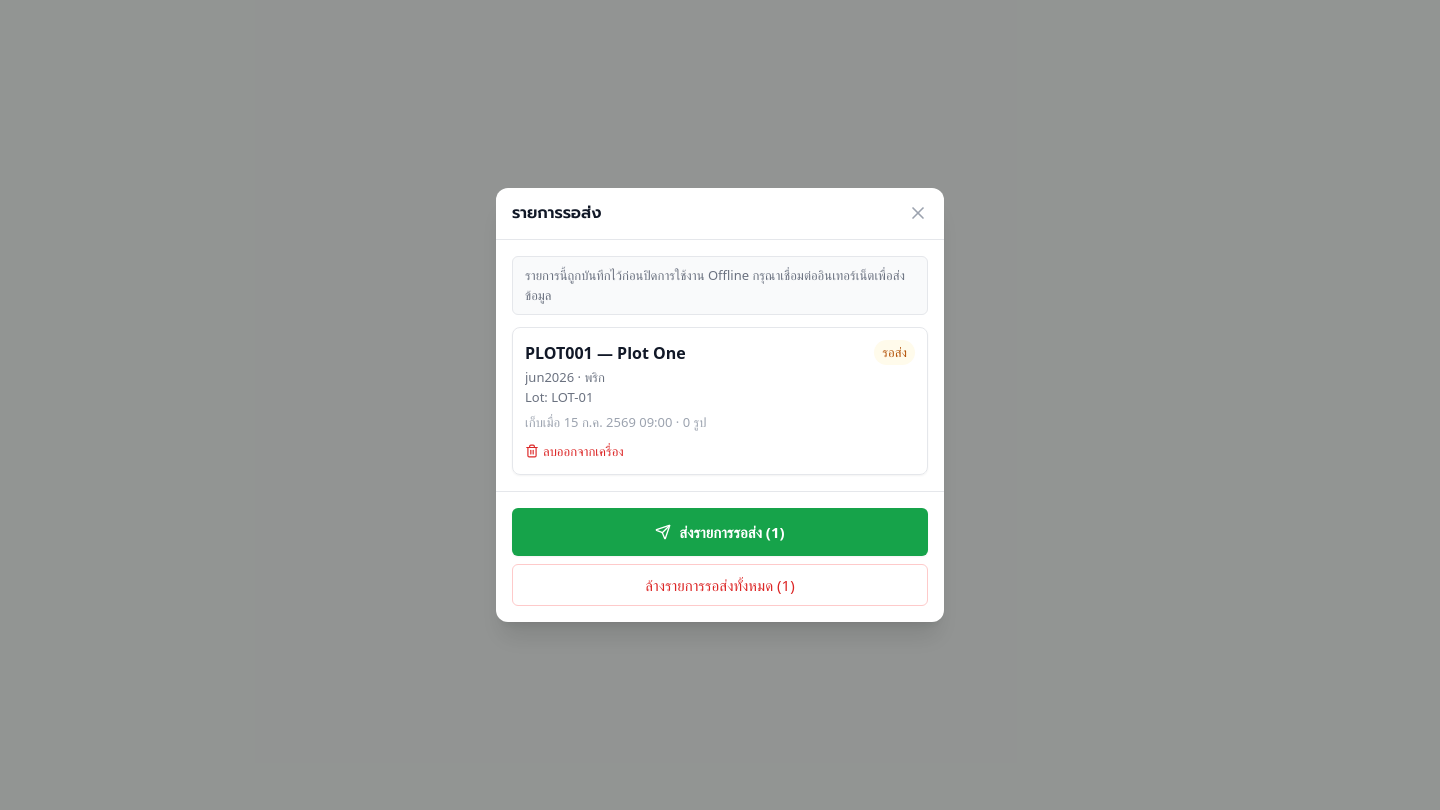
Scenario: OfflineInspectionQueuePanel — re-auth + sync flow › never shows "เบอร์โทร" in the re-auth number step copy
This screenshot has width=1440, height=810.
Click the button "ส่งรายการรอส่ง (1)": click(720, 532) x1=512 y1=508 x2=928 y2=556
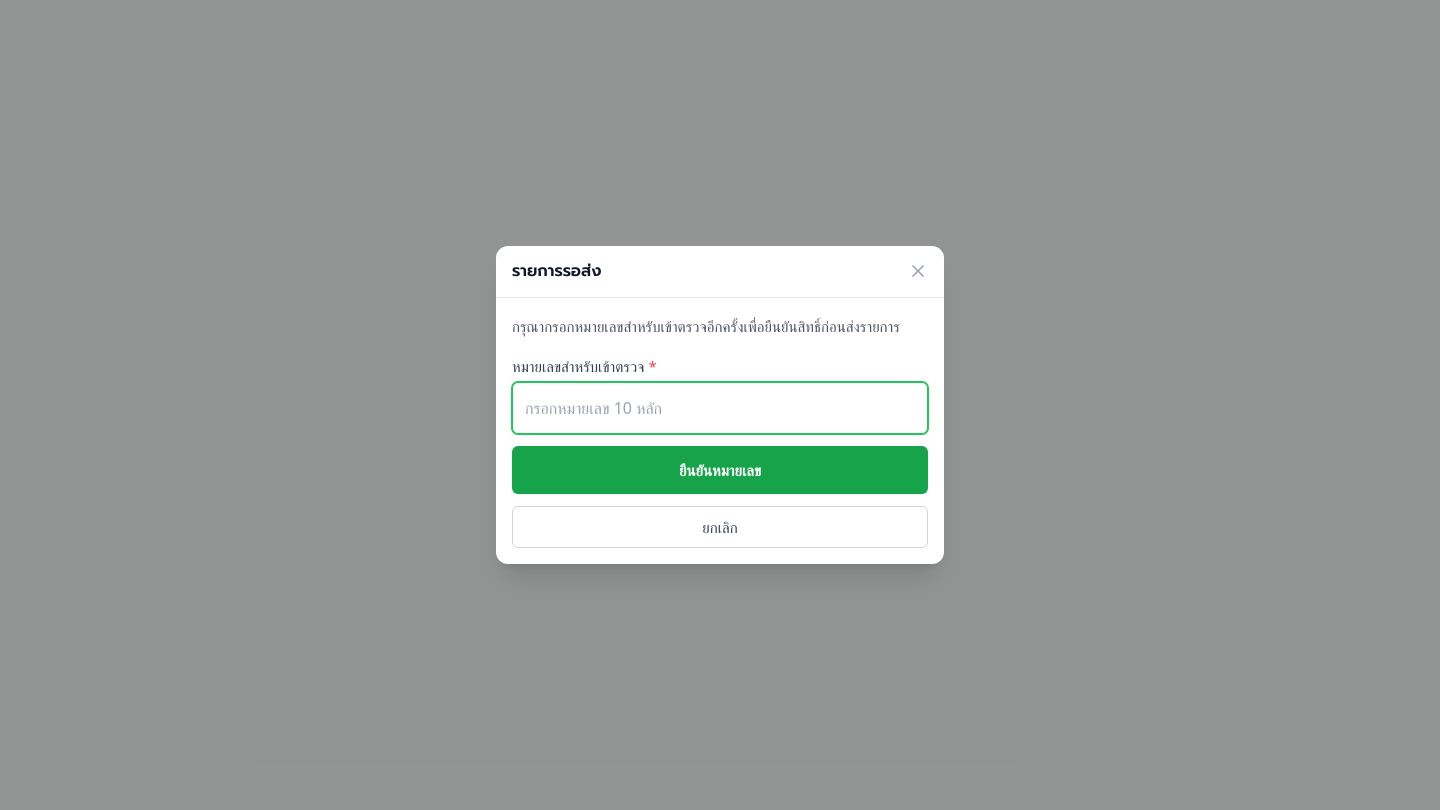
Check: the field with placeholder "กรอกหมายเลข 10 หลัก" is shown, box x1=512 y1=382 x2=928 y2=434
